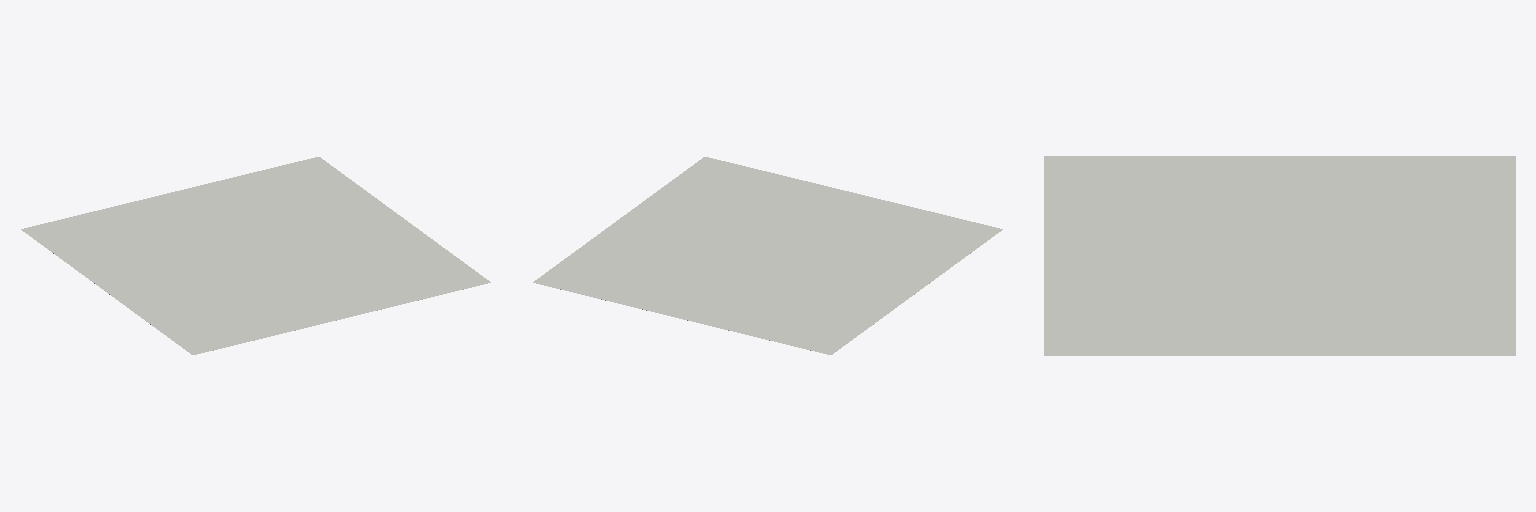
The robot description file, URDF, robot "plane":
<?xml version="1.0"?>
<robot name="plane">
  <link name="base_link">
    <inertial>
      <origin xyz="0 0 0" rpy="0 0 0"/>
      <mass value="0.0"/>
      <inertia ixx="0" ixy="0" ixz="0" iyy="0" iyz="0" izz="0"/>
    </inertial>
    <visual>
      <origin xyz="0 0 0" rpy="0 0 0"/>
      <geometry><box size="10 10 0.001"/></geometry>
      <material name="plane_mat"><color rgba="0.85 0.85 0.82 1.0"/></material>
    </visual>
    <collision>
      <origin xyz="0 0 0" rpy="0 0 0"/>
      <geometry><box size="10 10 0.001"/></geometry>
    </collision>
  </link>
</robot>

--- Render facts (derived) ---
The picture shows the robot from 3 angles, left to right: view 1: azimuth 30°, elevation 25°; view 2: azimuth 150°, elevation 25°; view 3: azimuth 270°, elevation 25°; orthographic projection.
Model plane with 1 links and 0 joints (none), rooted at base_link, posed every joint at zero.
Visible links, largest first — view 1: base_link; view 2: base_link; view 3: base_link.
Link boxes in pixels (x1,y1,x2,y2): base_link: [21, 157, 490, 354]; base_link: [533, 157, 1002, 354]; base_link: [1044, 156, 1515, 355].
Bounding box of the posed robot: 10 × 10 × 0.001 m (x, y, z).
Geometry: primitives only (box / cylinder / sphere), no mesh files.
